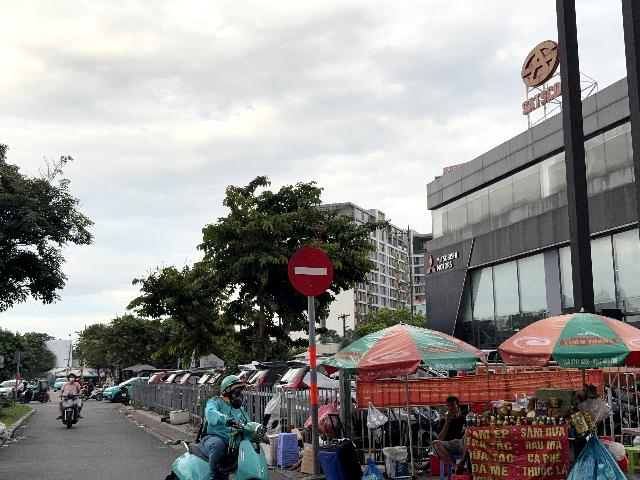cam-di-nguoc-chieu: (287, 247, 334, 296)
